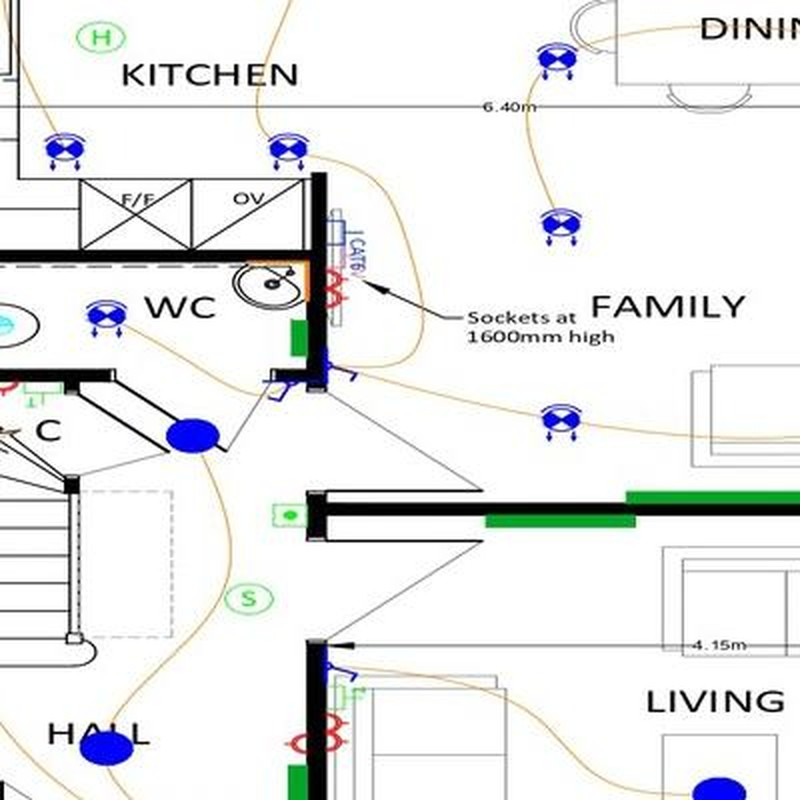Cat 6 Data Socket: (325, 220, 367, 272)
Ceiling Mounted Continuous Extract FanWith Boost Mode Activated By Light Switch: (1, 317, 13, 331)
Double Socket: (326, 713, 350, 755), (327, 271, 350, 310)
Light Switch: (325, 360, 358, 385), (326, 661, 358, 684), (268, 380, 299, 402)
Low Energy Downlighter: (43, 133, 86, 173), (87, 299, 128, 340), (540, 207, 582, 247), (268, 132, 309, 171), (537, 43, 579, 80), (543, 403, 581, 442)
Low Energy Pendant Light: (165, 418, 220, 455), (79, 732, 135, 766), (693, 779, 748, 800)
Mains Wired Smoke Detector: (226, 584, 274, 614)
Programmable Room Thermostat: (272, 503, 308, 527)
Radiator: (626, 491, 800, 503), (483, 517, 636, 528), (286, 764, 310, 800), (291, 319, 309, 357)
Single Socket: (284, 732, 307, 756)
Telephone Socket: (23, 383, 63, 408)
